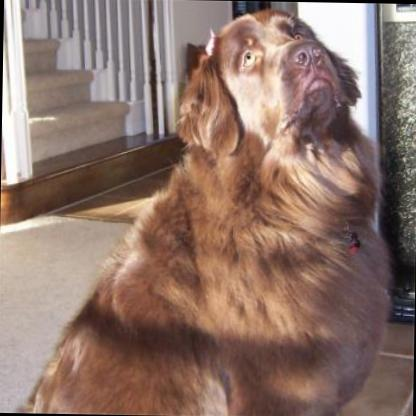Newfoundland: (14, 4, 393, 416)
